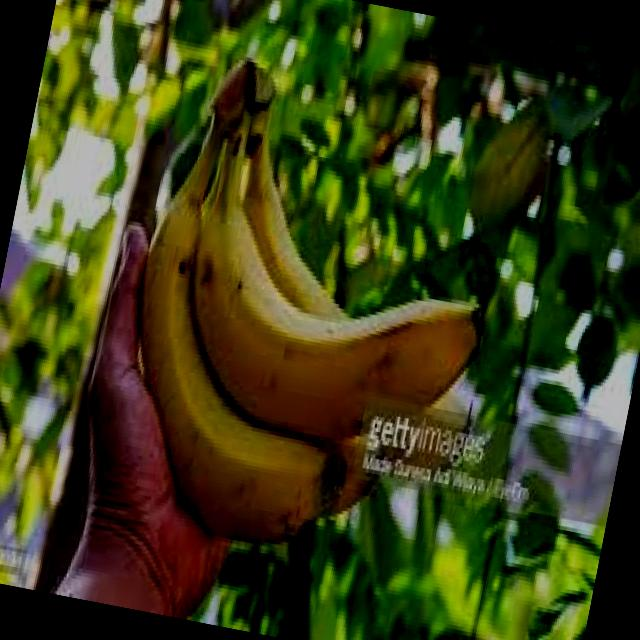Banana: (96, 42, 528, 580)
